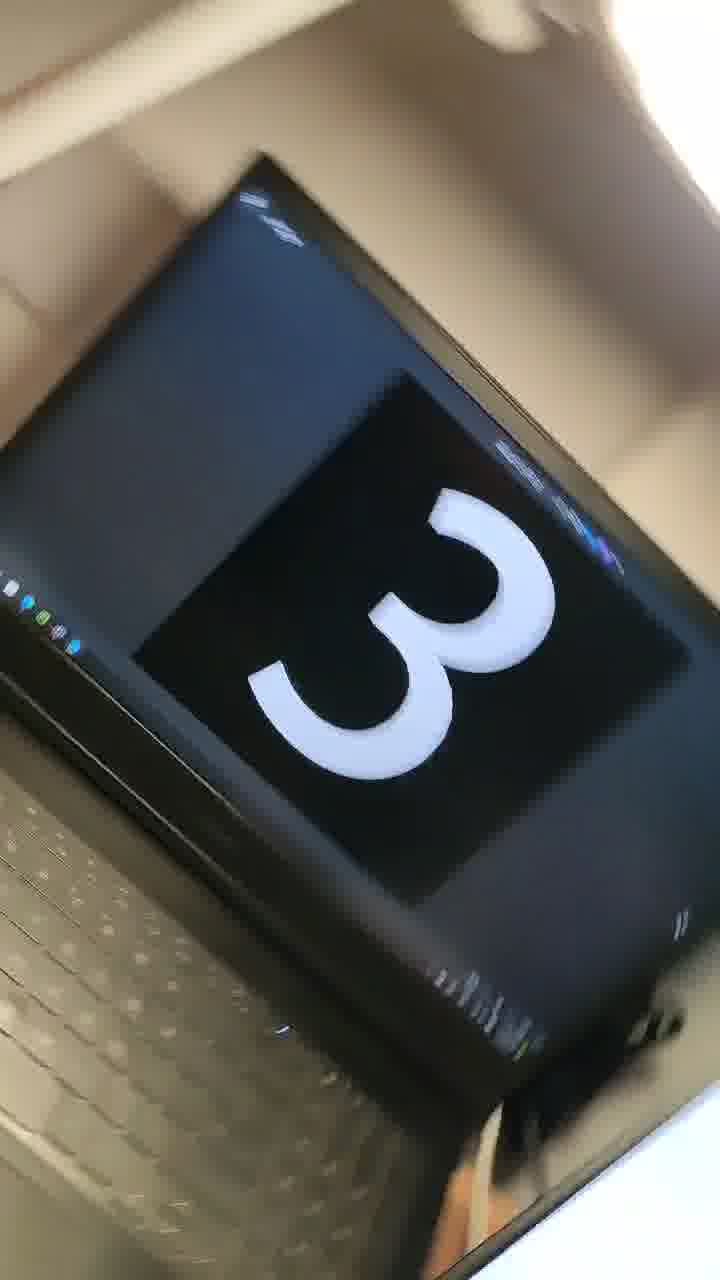three: (237, 444, 562, 828)
